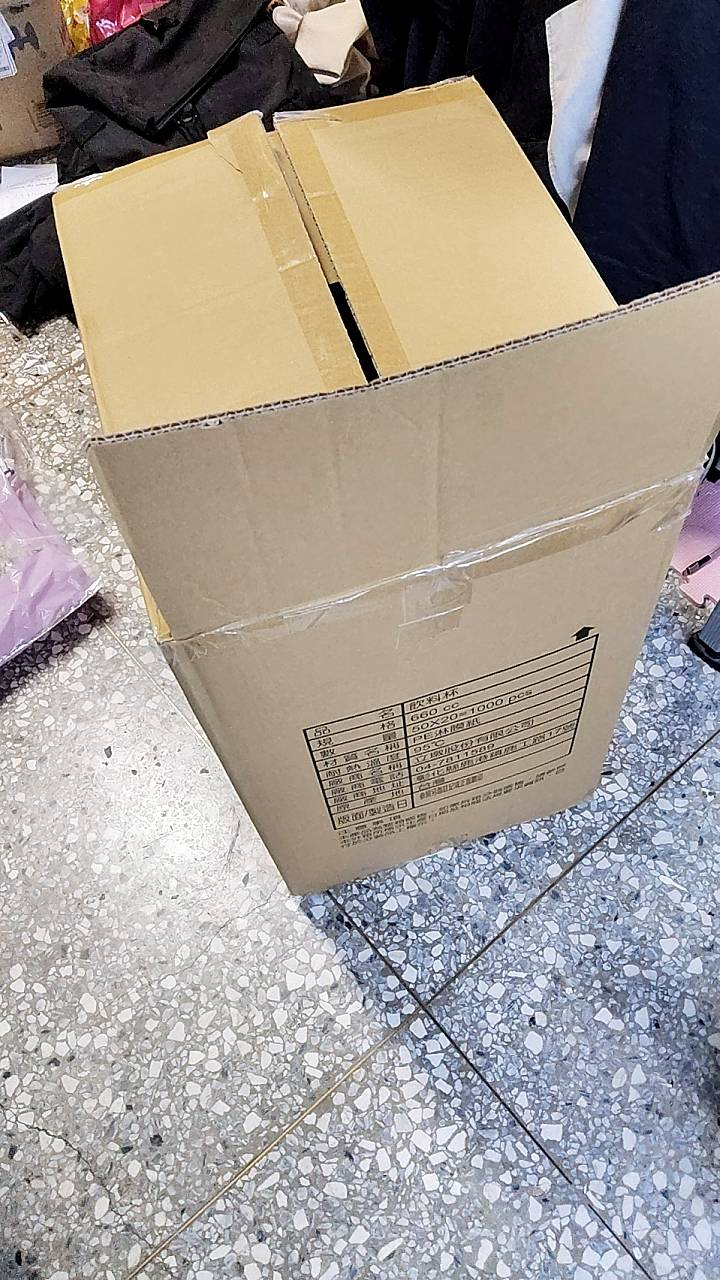paper: (37, 75, 720, 930)
